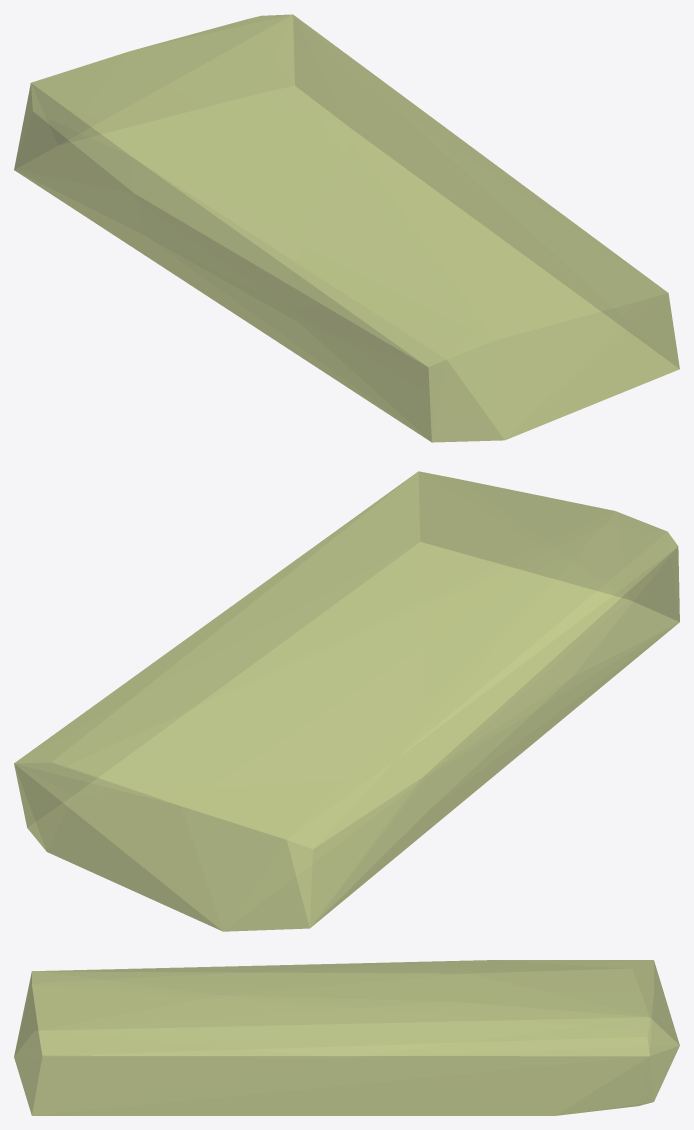
3 renders of one model, top to bottom at view 1: azimuth 30°, elevation 25°; view 2: azimuth 150°, elevation 25°; view 3: azimuth 270°, elevation 25°, orthographic. The views are drawn at different scales.
Parts seen in each view (by area): view 1: Shape_IndexedFaceSet.002_Shape_IndexedFaceSet.18225; view 2: Shape_IndexedFaceSet.002_Shape_IndexedFaceSet.18225; view 3: Shape_IndexedFaceSet.002_Shape_IndexedFaceSet.18225.
Boxes of the visible parts, <box> form: Shape_IndexedFaceSet.002_Shape_IndexedFaceSet.18225: <box>14,14,679,442</box>; Shape_IndexedFaceSet.002_Shape_IndexedFaceSet.18225: <box>14,471,679,931</box>; Shape_IndexedFaceSet.002_Shape_IndexedFaceSet.18225: <box>14,960,679,1115</box>.
Size of the model in its own units: 0.2142 by 0.0793 by 0.548.
